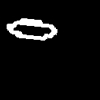chain: (7, 19, 56, 39)
